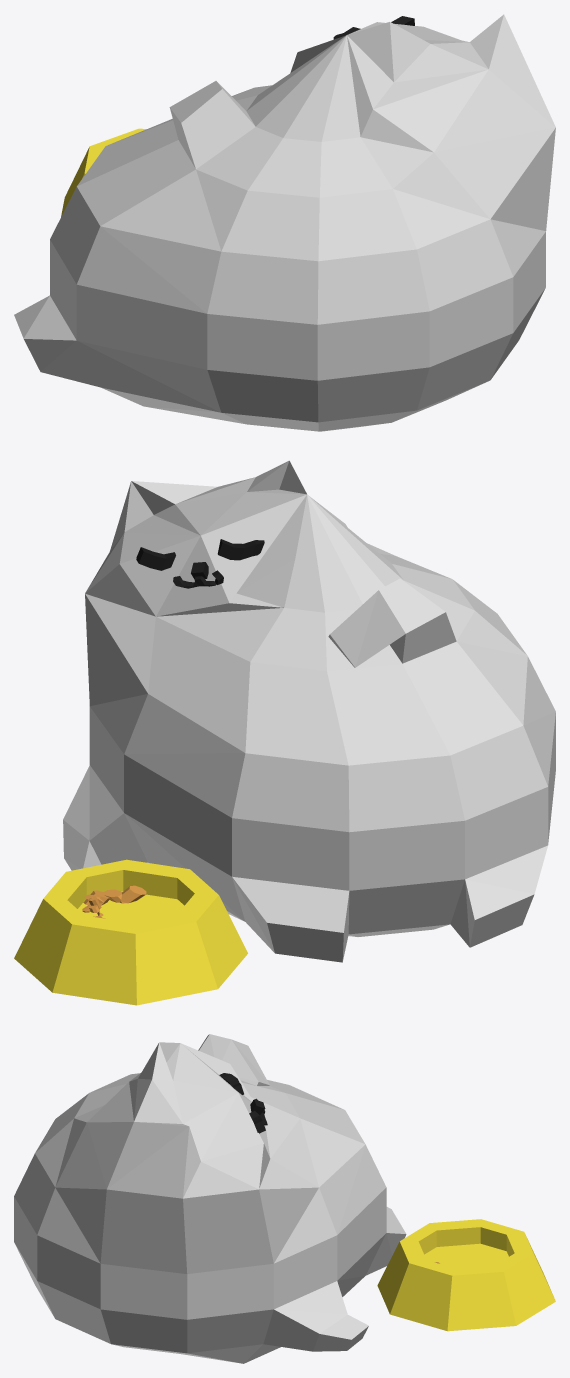
File: Tubbs the cat.glb
3 renders of one model, top to bottom at view 1: azimuth 30°, elevation 25°; view 2: azimuth 150°, elevation 25°; view 3: azimuth 270°, elevation 25°, orthographic. The views are drawn at different scales.
Visible parts, largest first — view 1: group697877844, group1526361541; view 2: group697877844, group1526361541, group1129870449; view 3: group697877844, group1526361541.
Part boxes in pixels (x1,y1,x2,y2): group697877844: (14,14,555,431); group1526361541: (61,128,146,216); group697877844: (63,460,555,962); group1526361541: (14,859,247,1005); group1129870449: (217,539,264,560); group697877844: (14,1034,406,1363); group1526361541: (377,1219,555,1331).
Bounding box in the file's own units: 0.5789 × 0.4647 × 0.7282.
